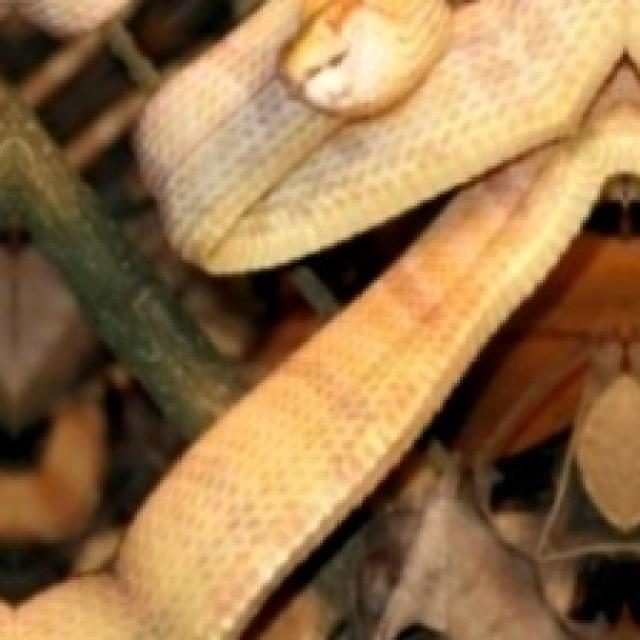dog-toothed cat snake: (0, 0, 637, 637), (137, 0, 637, 271)
